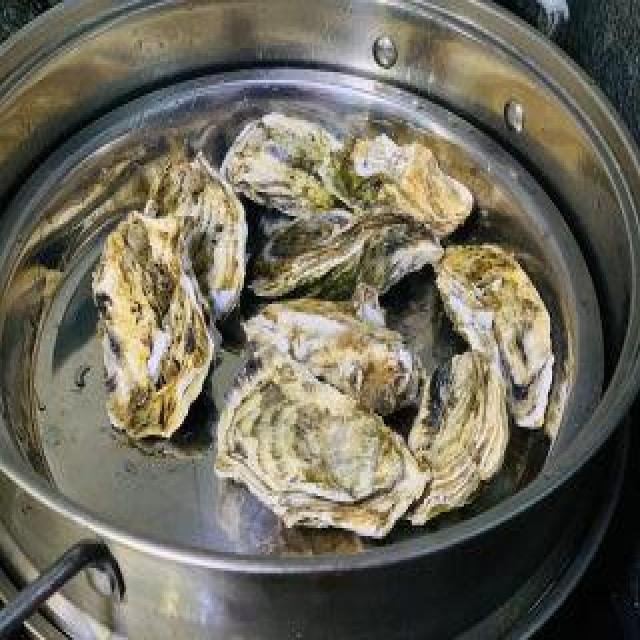Oyster- Indeterminate: (215, 357, 432, 537), (85, 200, 222, 450), (434, 239, 556, 440), (242, 292, 425, 414), (139, 138, 248, 322), (406, 349, 506, 532), (318, 128, 472, 240), (224, 113, 352, 220)
Oyster-Closed: (241, 208, 447, 305)
